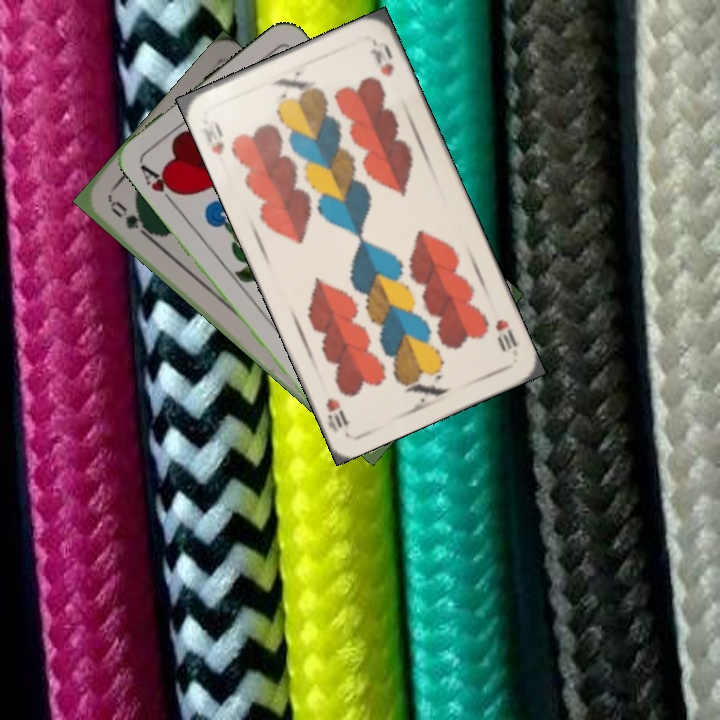GO: (105, 196, 157, 241)
H10: (491, 315, 520, 355), (200, 116, 227, 158)
HA: (135, 160, 183, 209)
